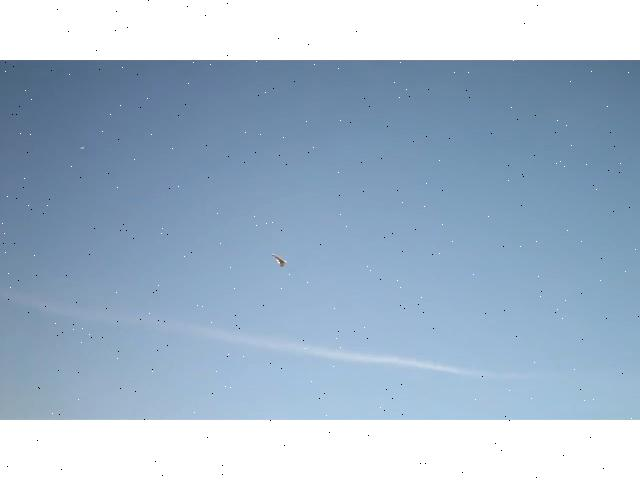Anti-Drone: (274, 254, 286, 268)
